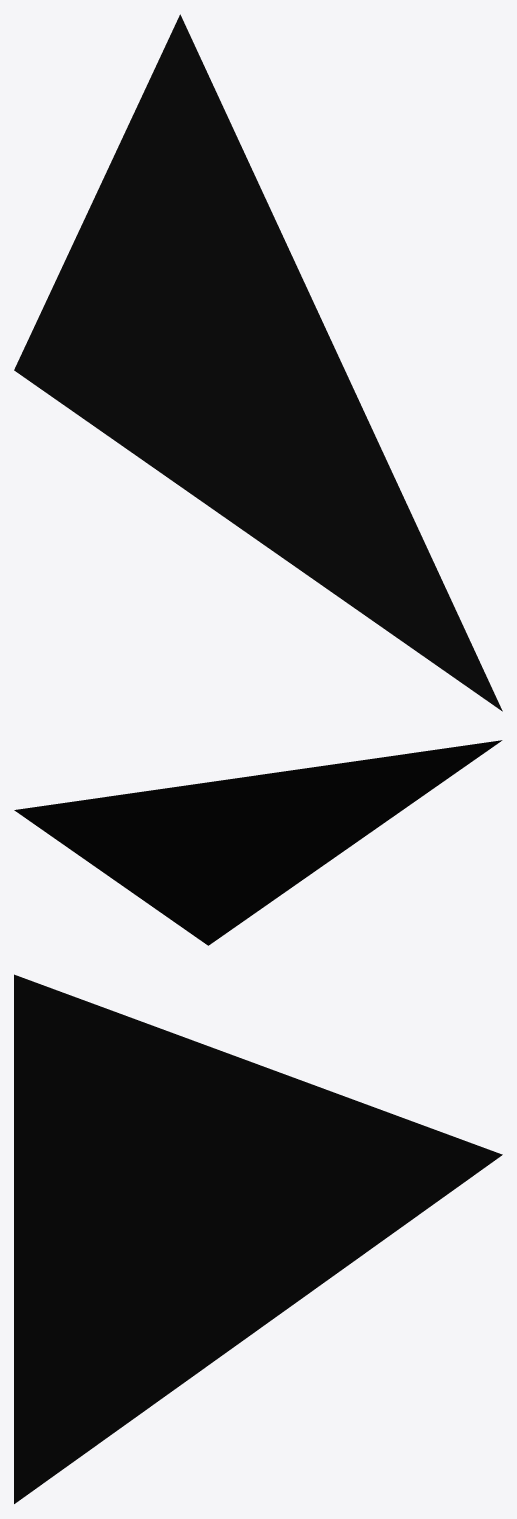
3 renders of one model, top to bottom at view 1: azimuth 30°, elevation 25°; view 2: azimuth 150°, elevation 25°; view 3: azimuth 270°, elevation 25°, orthographic. The views are drawn at different scales.
Size of the model in its own units: 1.34 by 1.21 by 1.53.
Materials: 1 (1 with a texture image).
